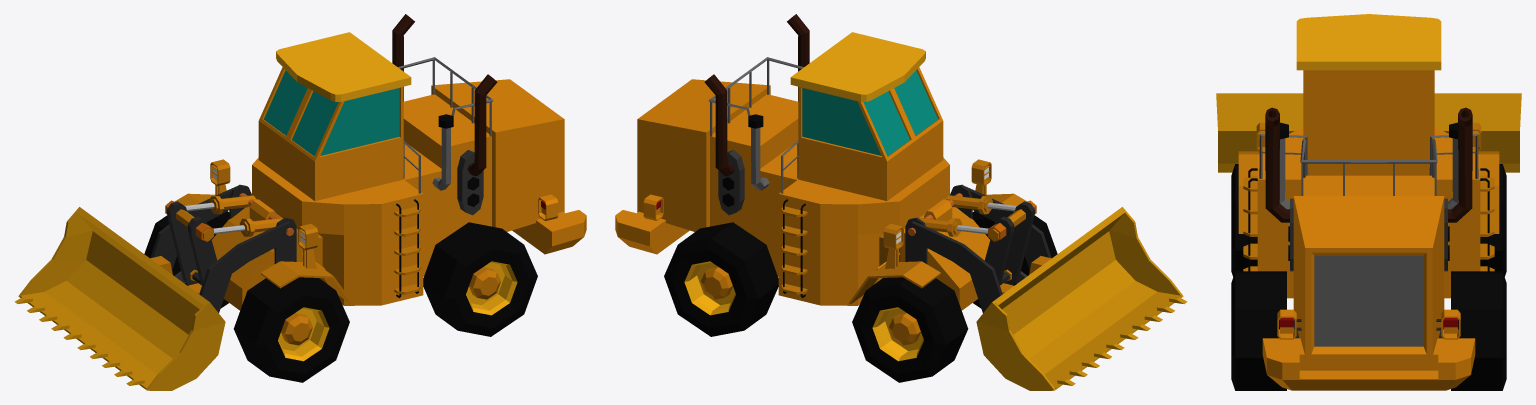
The model's file is chargeuse_pneus.glb.
3 renders of one model, left to right at view 1: azimuth 30°, elevation 25°; view 2: azimuth 150°, elevation 25°; view 3: azimuth 270°, elevation 25°, orthographic. The views are drawn at different scales.
Visible parts, largest first — view 1: Loader_18; view 2: Loader_18; view 3: Loader_18.
Boxes of the visible parts, left/top/right/bottom form: Loader_18: left=14, top=14, right=586, bottom=390; Loader_18: left=615, top=14, right=1187, bottom=390; Loader_18: left=1216, top=14, right=1521, bottom=390.
Bounding box in the file's own units: 6.45 × 3.27 × 3.05.
Materials: 1 (1 with a texture image).
